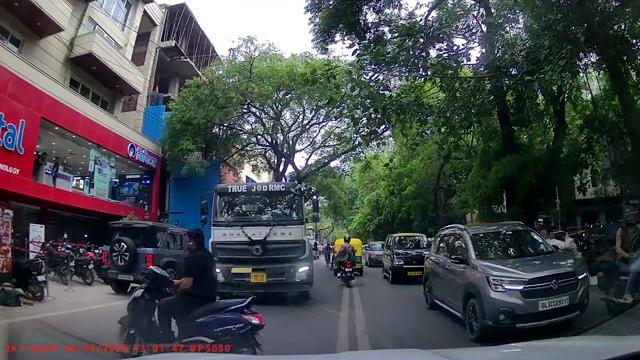motorcycle_with_helmet: (334, 233, 361, 290)
motorcycle_without_helmet: (118, 227, 264, 355)
